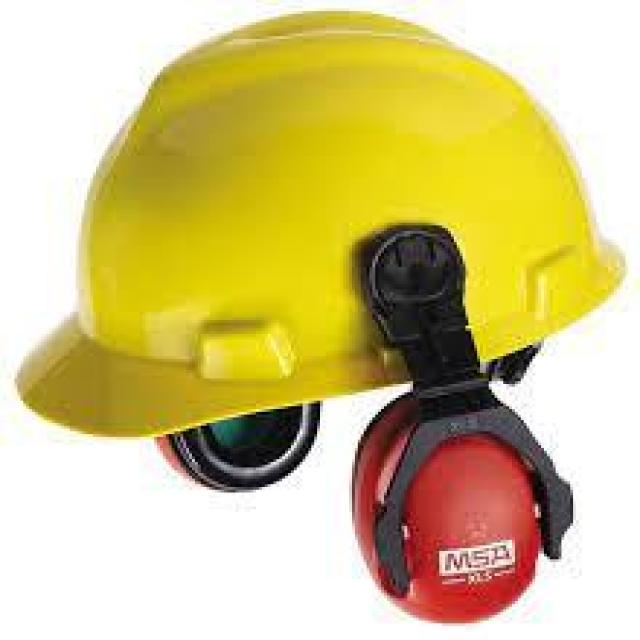Ear-protection: (133, 376, 610, 608)
